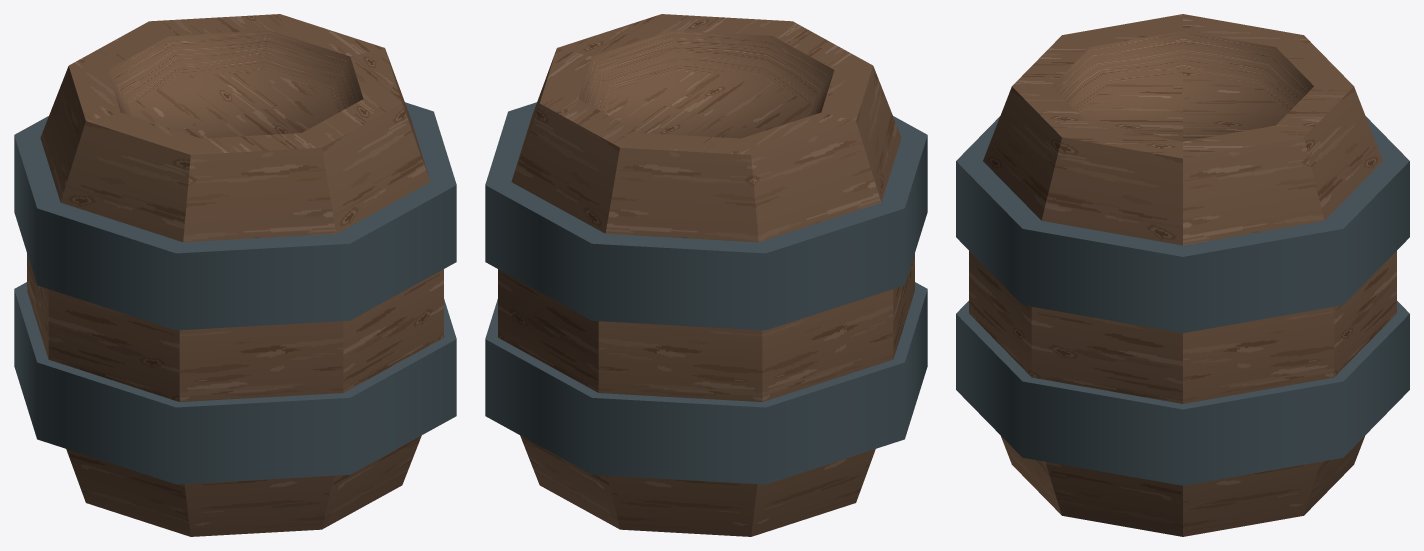
The model's file is barrel.gltf.
3 renders of one model, left to right at view 1: azimuth 30°, elevation 25°; view 2: azimuth 150°, elevation 25°; view 3: azimuth 270°, elevation 25°, orthographic.
Parts seen in each view (by area): view 1: barrel; view 2: barrel; view 3: barrel.
Boxes of the visible parts, x1,y1,x2,y2 form: barrel: (14, 14, 456, 536); barrel: (485, 14, 927, 536); barrel: (956, 14, 1409, 536).
Size of the model in its own units: 1.34 by 1.23 by 1.34.
Materials: 2 (1 with a texture image).
